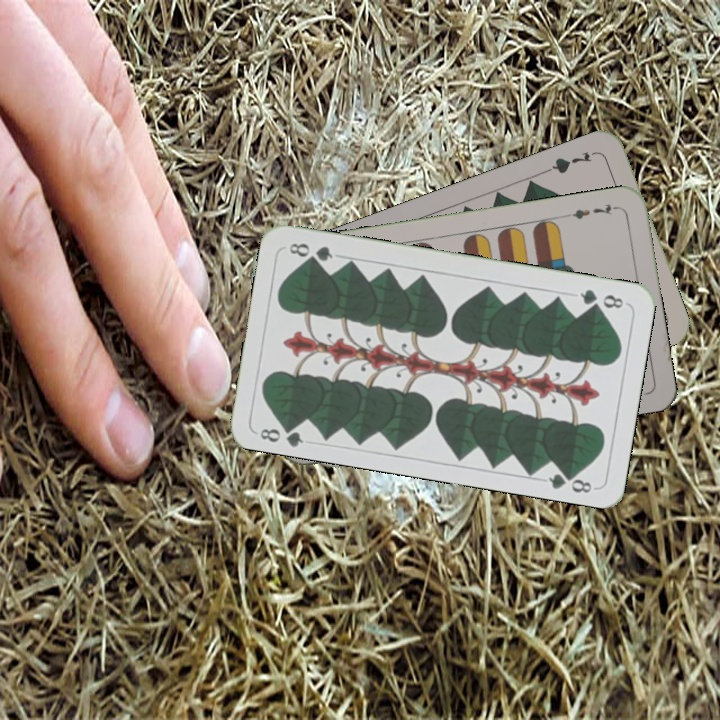E7: (562, 199, 621, 222)
G7: (543, 147, 600, 177)
G8: (256, 418, 306, 449), (576, 285, 626, 311)
